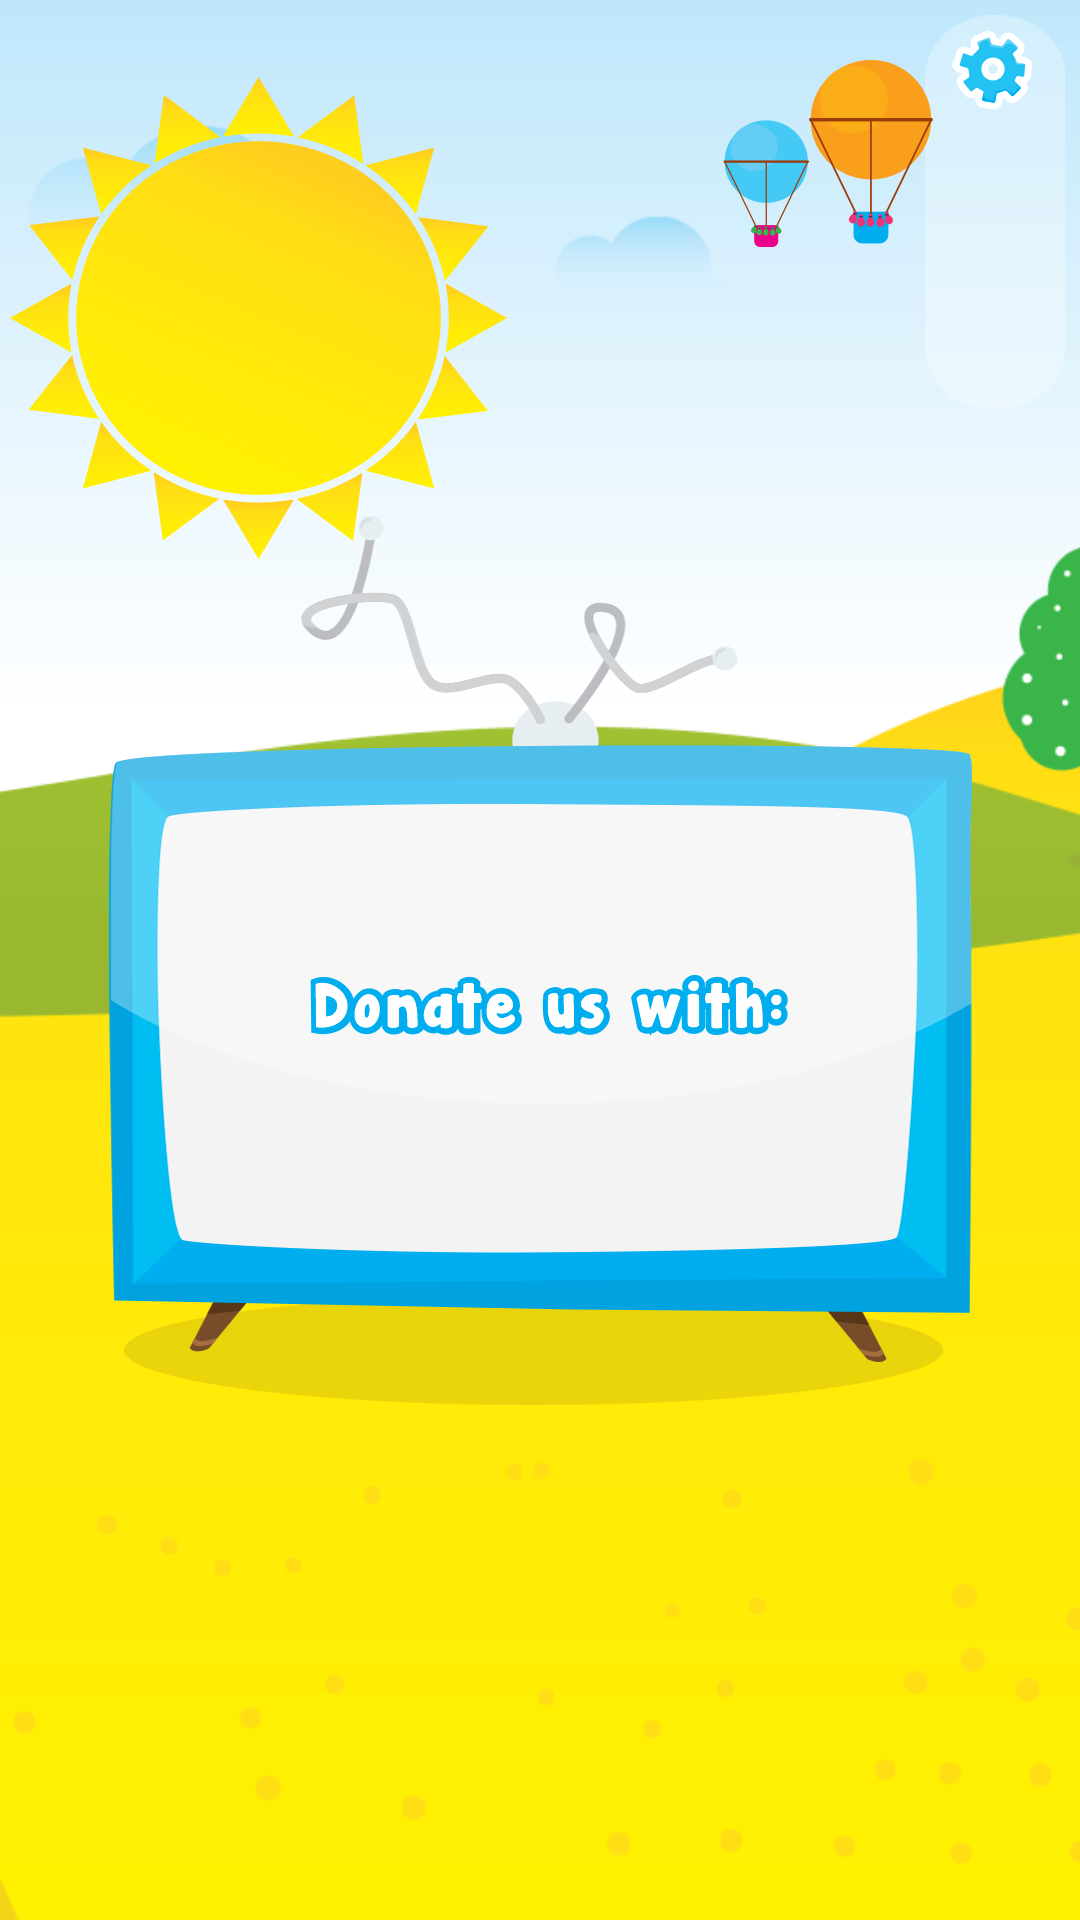

Named icons in this screenshot (1080×1920) and their centers, [x,y]:
balon: [871,152], [766,183]
start settings: [992,70]
